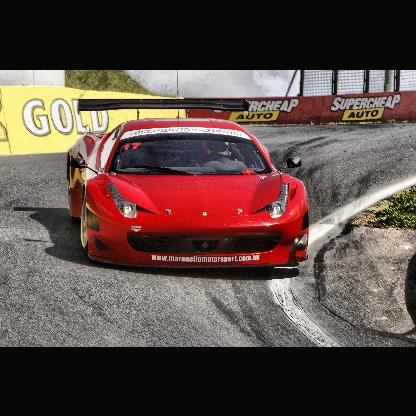Ferrari 458 Italia Convertible 2012: (68, 116, 311, 274)
